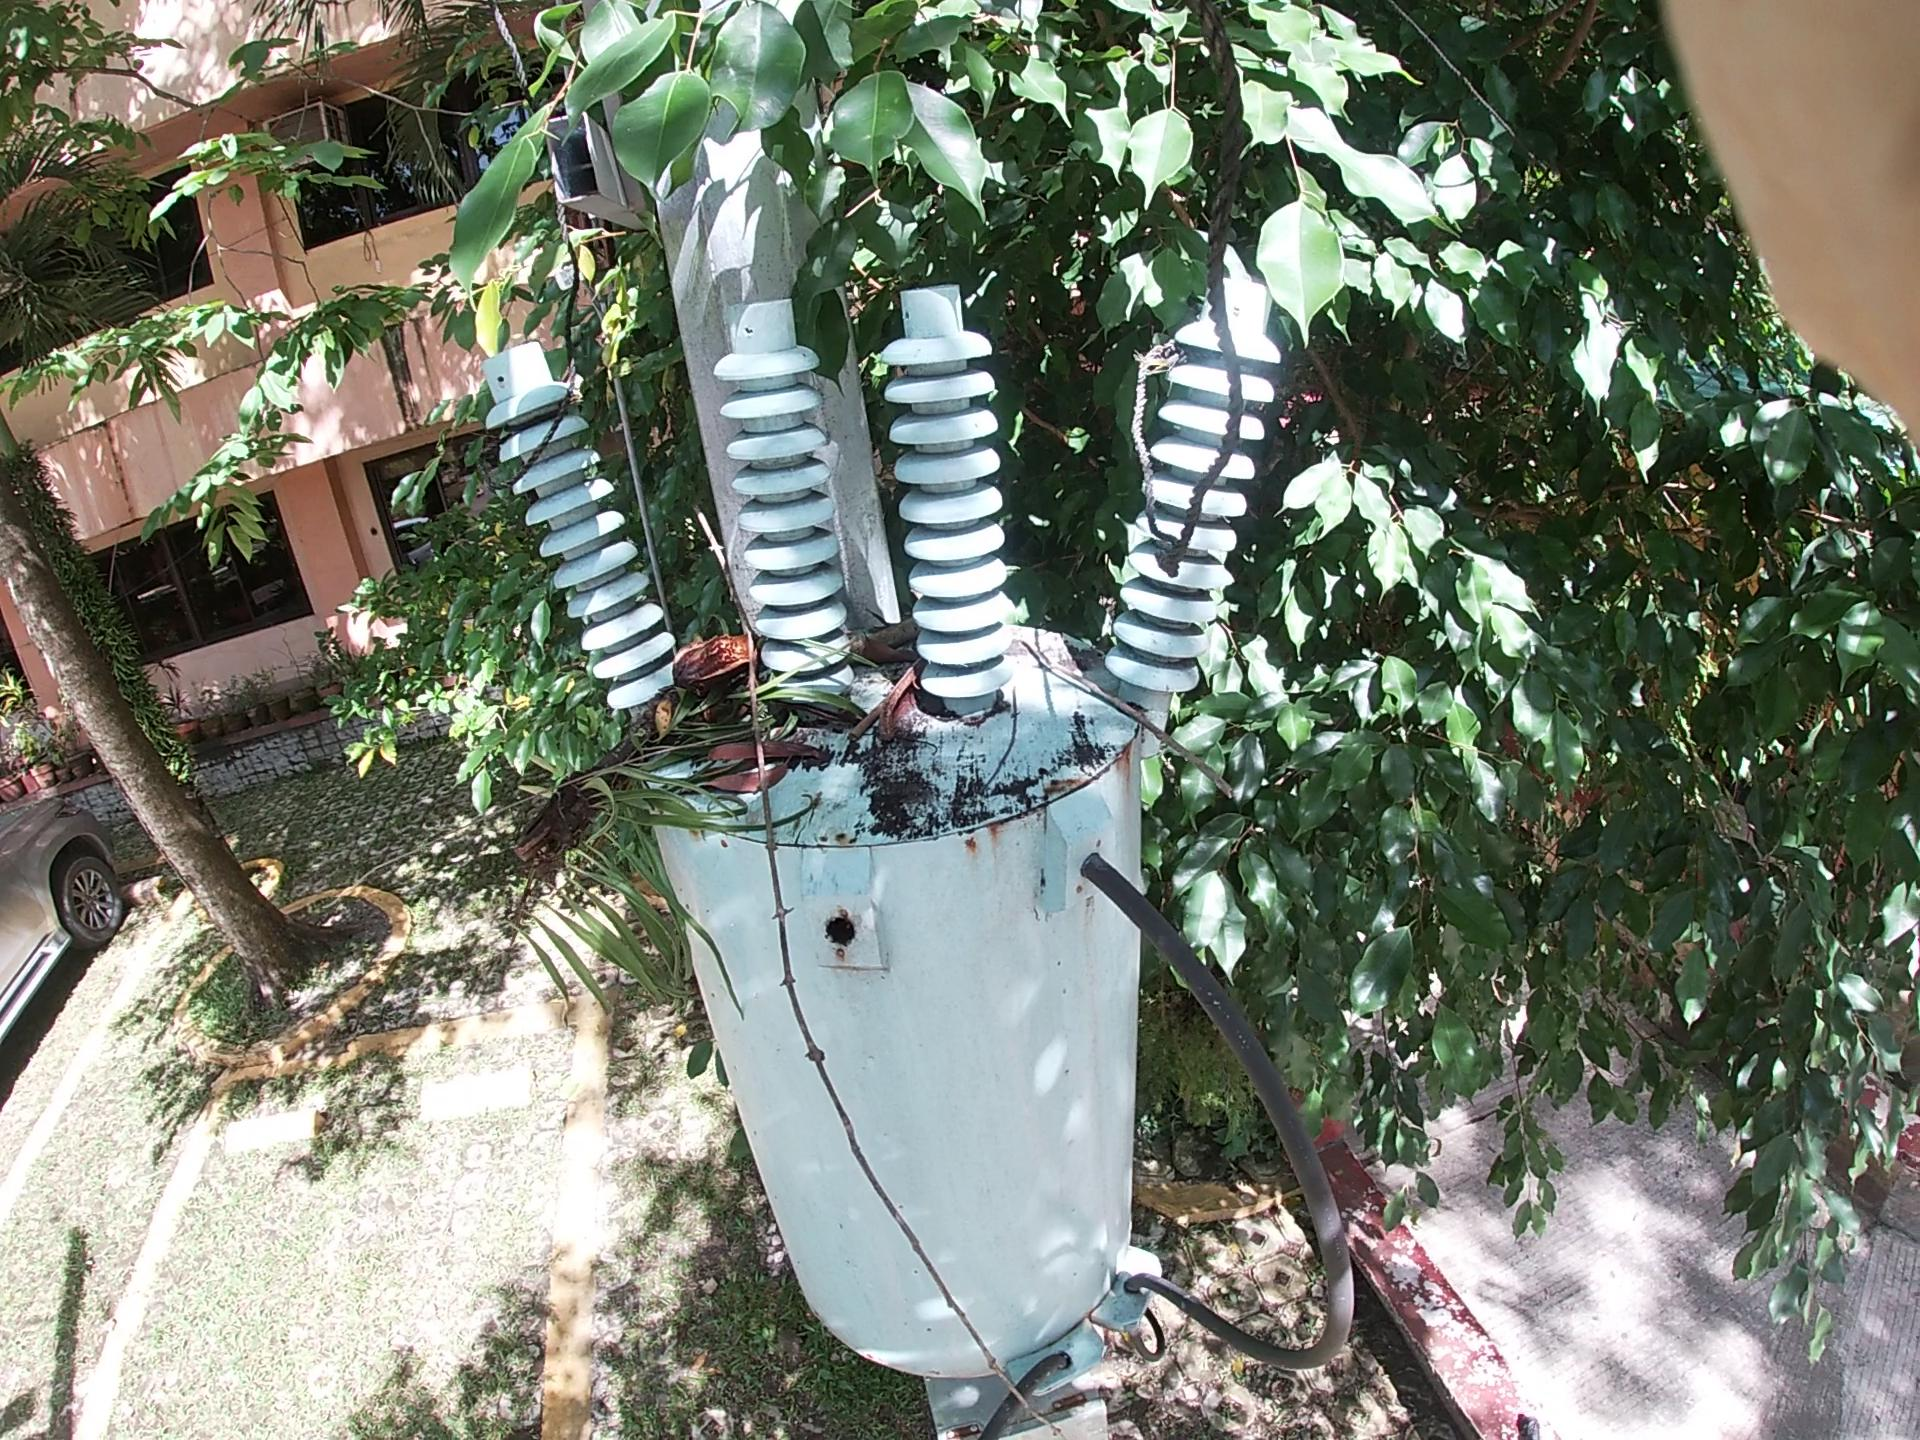branch with leaves: (541, 421, 1045, 929)
leaf: (685, 702, 853, 777)
mahogany fruit: (655, 597, 773, 697), (877, 616, 948, 755)
tree branch: (692, 522, 887, 1251), (1001, 597, 1294, 906), (825, 582, 887, 821)
